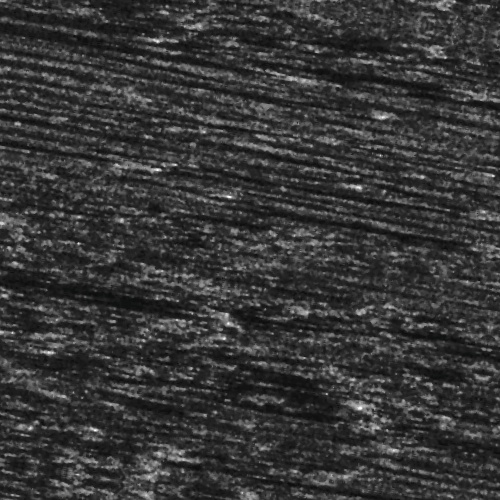object: (187, 299, 292, 328), (431, 202, 500, 213), (0, 364, 38, 373), (24, 377, 55, 386), (89, 179, 120, 182)
shadow: (32, 299, 239, 328), (237, 202, 488, 213), (277, 465, 500, 474), (298, 58, 500, 67), (0, 377, 40, 386), (0, 179, 104, 182)
